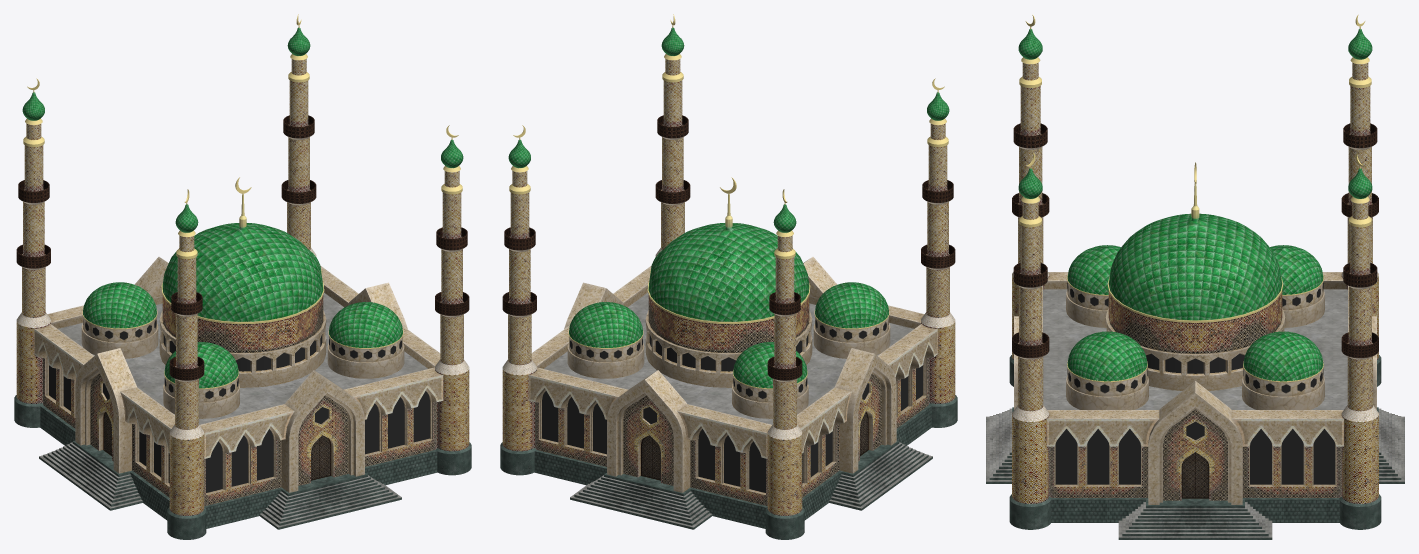
Rendered from mosque.glb.
3 views of the same model, side by side, from view 1: azimuth 30°, elevation 25°; view 2: azimuth 150°, elevation 25°; view 3: azimuth 270°, elevation 25° (orthographic). The views are drawn at different scales.
Parts seen in each view (by area): view 1: Object_3, Object_5, Object_4; view 2: Object_3, Object_5, Object_4; view 3: Object_3, Object_5, Object_4.
Part boxes in pixels (bbox=[...]): Object_3: bbox=[14, 14, 471, 539]; Object_5: bbox=[81, 177, 404, 418]; Object_4: bbox=[34, 265, 443, 506]; Object_3: bbox=[500, 14, 957, 539]; Object_5: bbox=[567, 177, 890, 418]; Object_4: bbox=[528, 265, 937, 506]; Object_3: bbox=[986, 14, 1404, 539]; Object_5: bbox=[1066, 162, 1324, 409]; Object_4: bbox=[1042, 272, 1348, 497].
Size of the model in its own units: 33.53 by 32.54 by 33.53.
2 materials, 2 textured.
